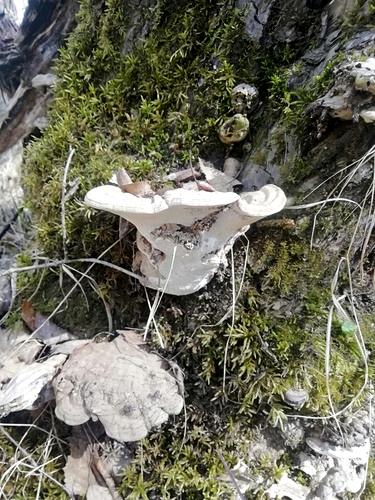Ganoderma - Fruit Body: (71, 169, 287, 297), (47, 324, 190, 439)
